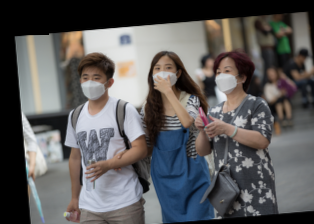with_mask: (80, 71, 106, 101), (214, 64, 239, 94), (151, 61, 176, 89)
